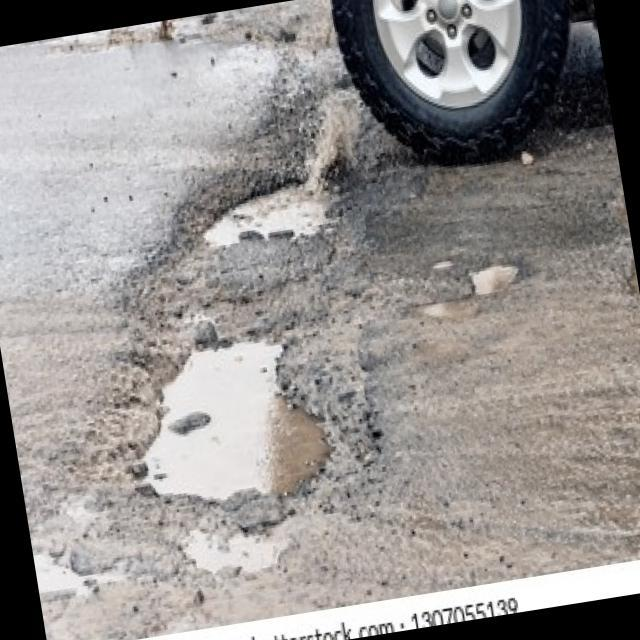Pothole: (100, 312, 356, 538), (186, 155, 354, 272)
